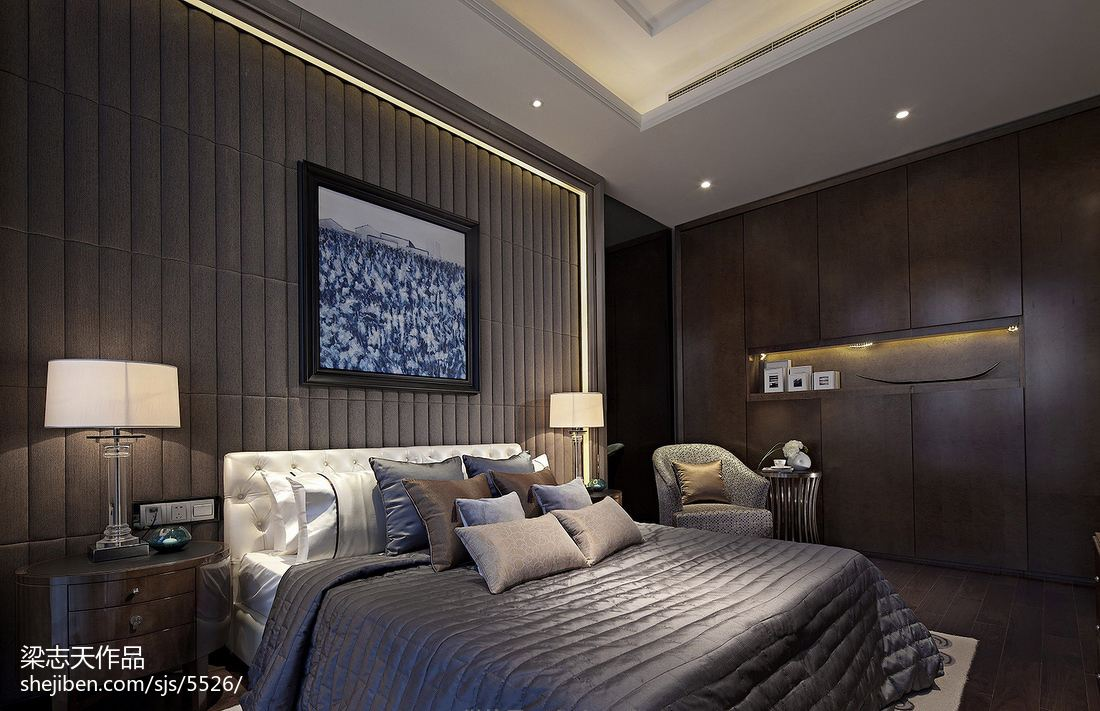床: (211, 532, 903, 706)
枕头: (366, 449, 648, 594), (668, 450, 729, 511)
灯: (39, 356, 178, 560), (543, 389, 610, 490), (898, 106, 923, 128), (699, 177, 722, 196), (528, 95, 550, 113)
